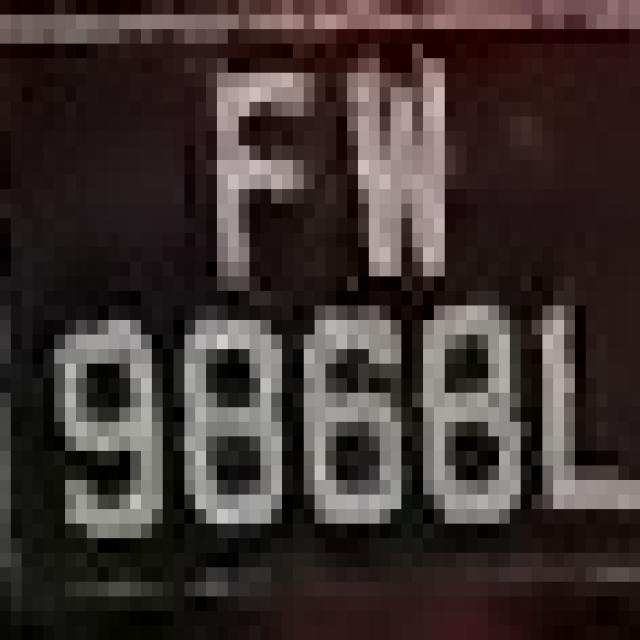6: (293, 247, 390, 538)
8: (152, 306, 304, 538), (401, 276, 521, 538)
9: (32, 306, 162, 538)
F: (184, 43, 314, 334)
L: (521, 276, 629, 538)
W: (315, 29, 488, 335)
